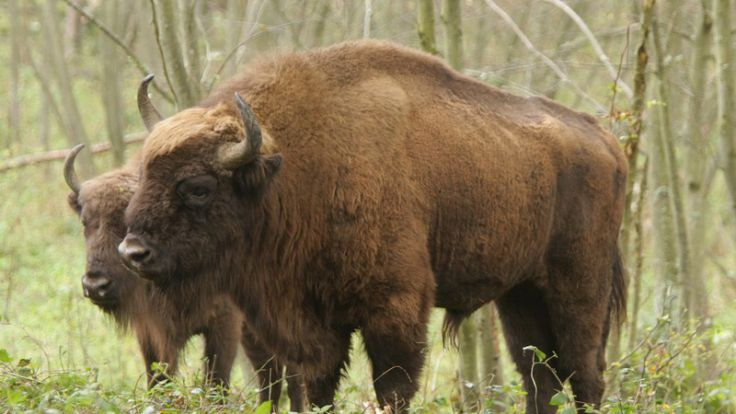zubr: (106, 21, 658, 414), (53, 120, 176, 350)
